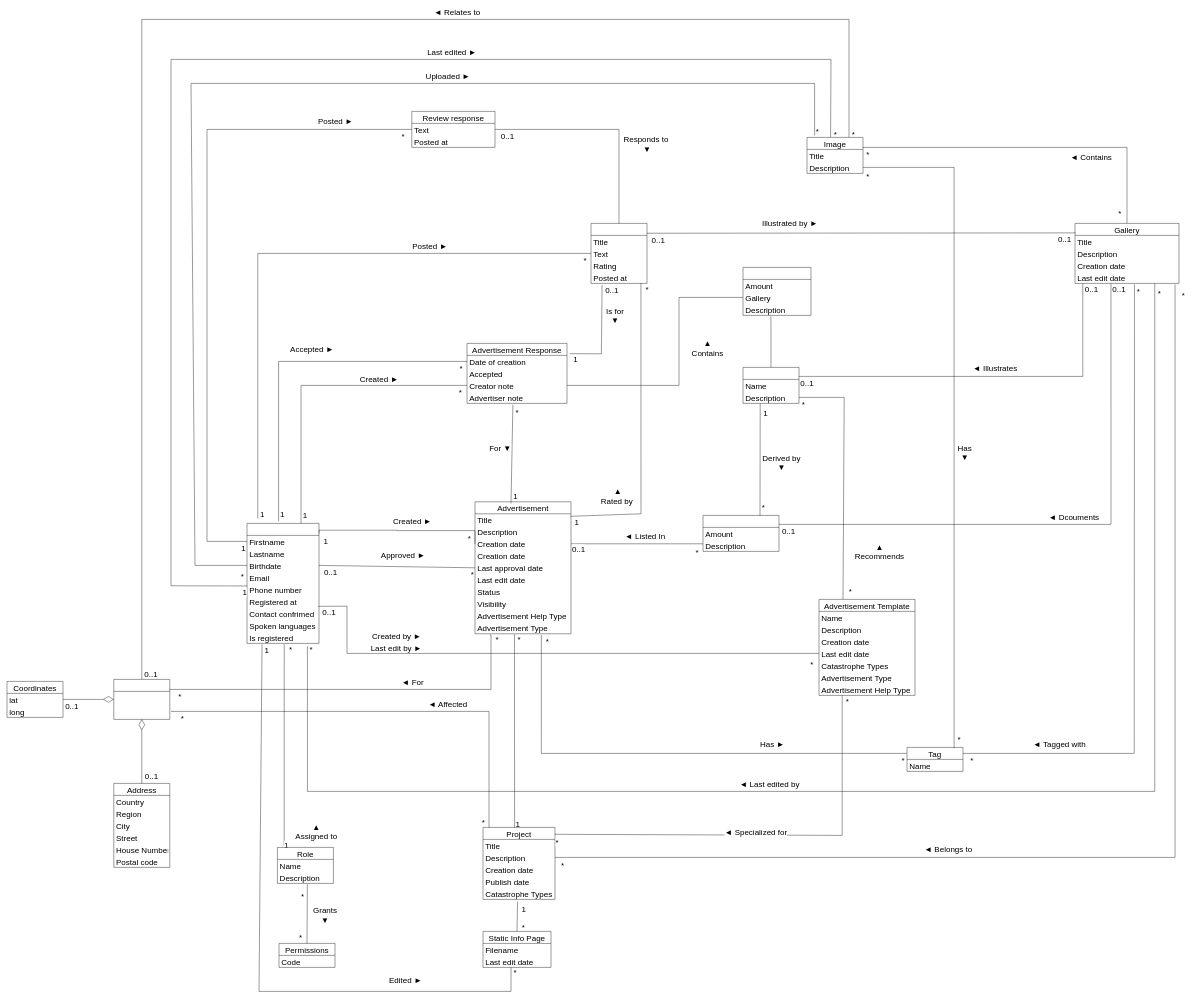
Some shapes in this 1192 by 999 pixel diagram are drawn without their labels. The box of each missing label's shape, as (x1, y1, x2, y2) in pixels:
Advertisement Item: (703, 515, 779, 551)
Location: (113, 679, 170, 719)
Resource: (743, 367, 799, 403)
Response Item: (743, 267, 811, 315)
Review: (591, 223, 647, 283)
User: (247, 523, 319, 643)
